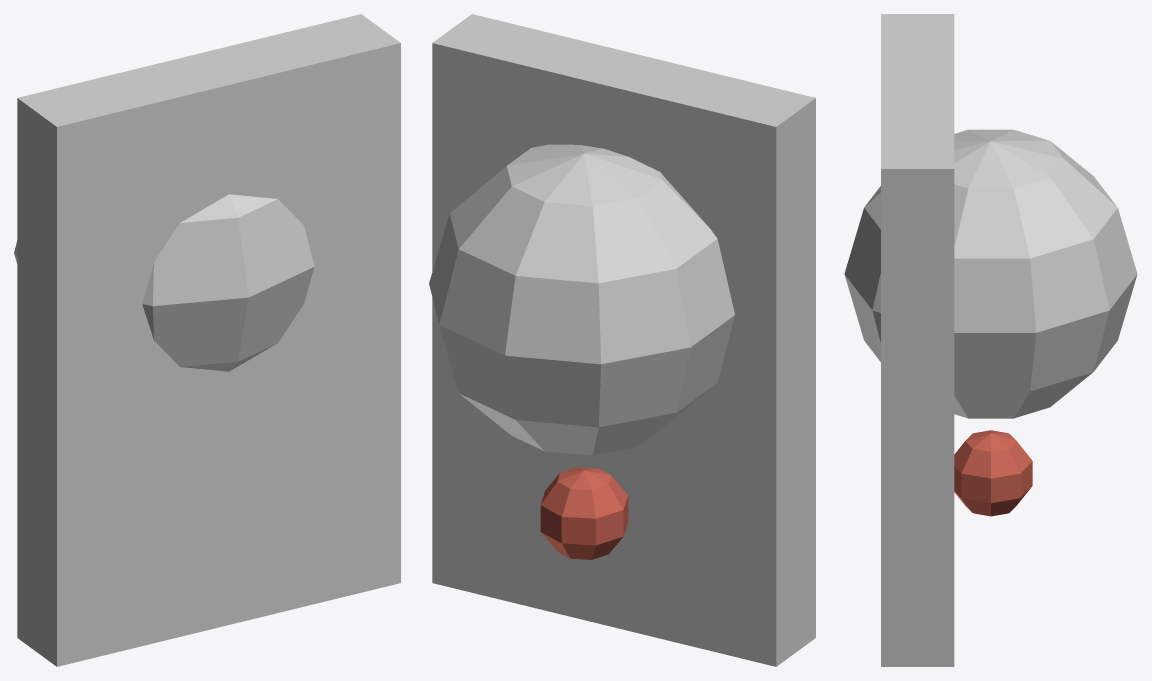
File: ilu_sensor.glb
3 views of the same model, side by side, from view 1: azimuth 30°, elevation 25°; view 2: azimuth 150°, elevation 25°; view 3: azimuth 270°, elevation 25° (orthographic). The views are drawn at different scales.
Visible parts, largest first — view 1: ILU_Sensor_v01; view 2: ILU_Sensor_v01; view 3: ILU_Sensor_v01.
Part boxes in pixels (box(x1,y1,x2,y2)): ILU_Sensor_v01: box(14, 14, 400, 666); ILU_Sensor_v01: box(429, 14, 815, 666); ILU_Sensor_v01: box(844, 14, 1137, 666).
Bounding box in the file's own units: 0.1 × 0.15 × 0.08.
